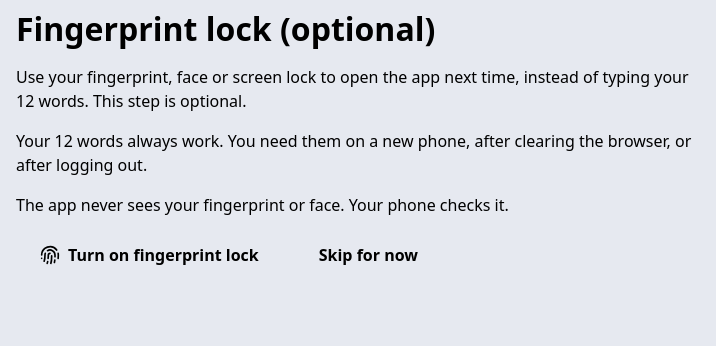
FingerprintScreen: turning on › without an enrolment key (page reloaded) asks for the 12 words and does not call the lock
Click the button "Turn on fingerprint lock".
click(149, 255)  # box [16,233,283,277]
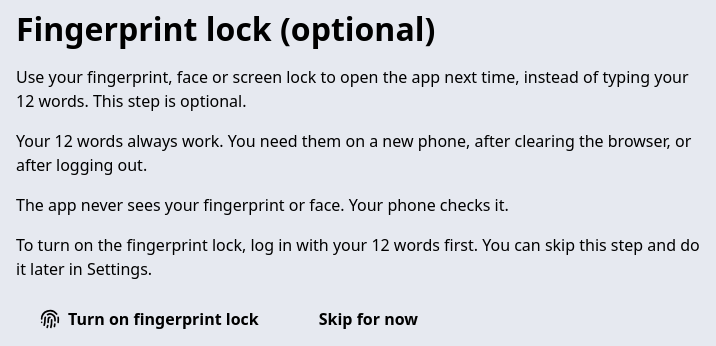
Check: the message shows "To turn on the fingerprint lock, log in with your 12 words first. You can skip this step and do it later in Settings.", box [16,234,700,280]
